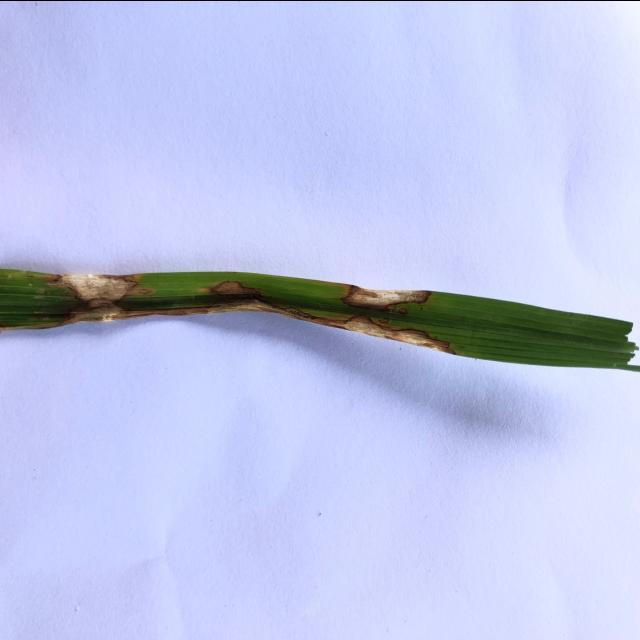Leaf Blight: (0, 272, 455, 350), (341, 282, 431, 307)
